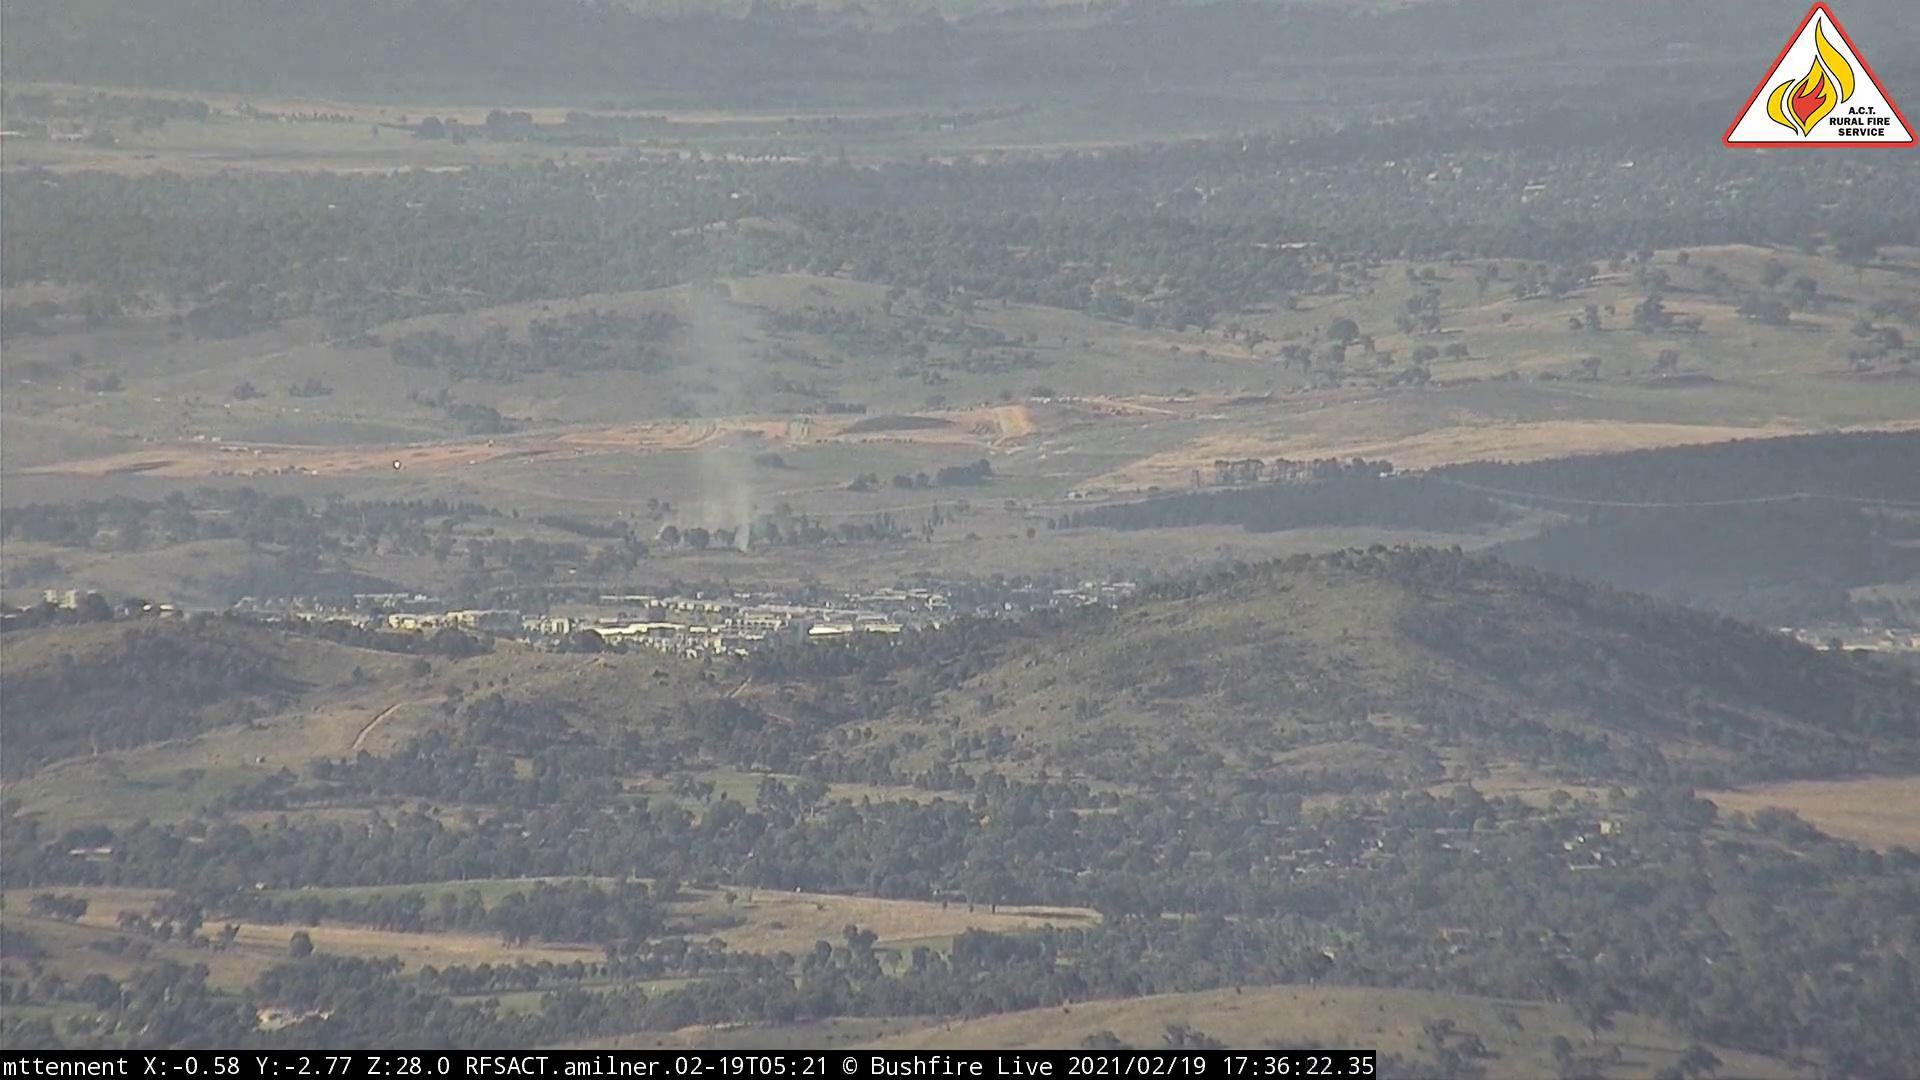Smoke: (651, 459, 779, 549)
